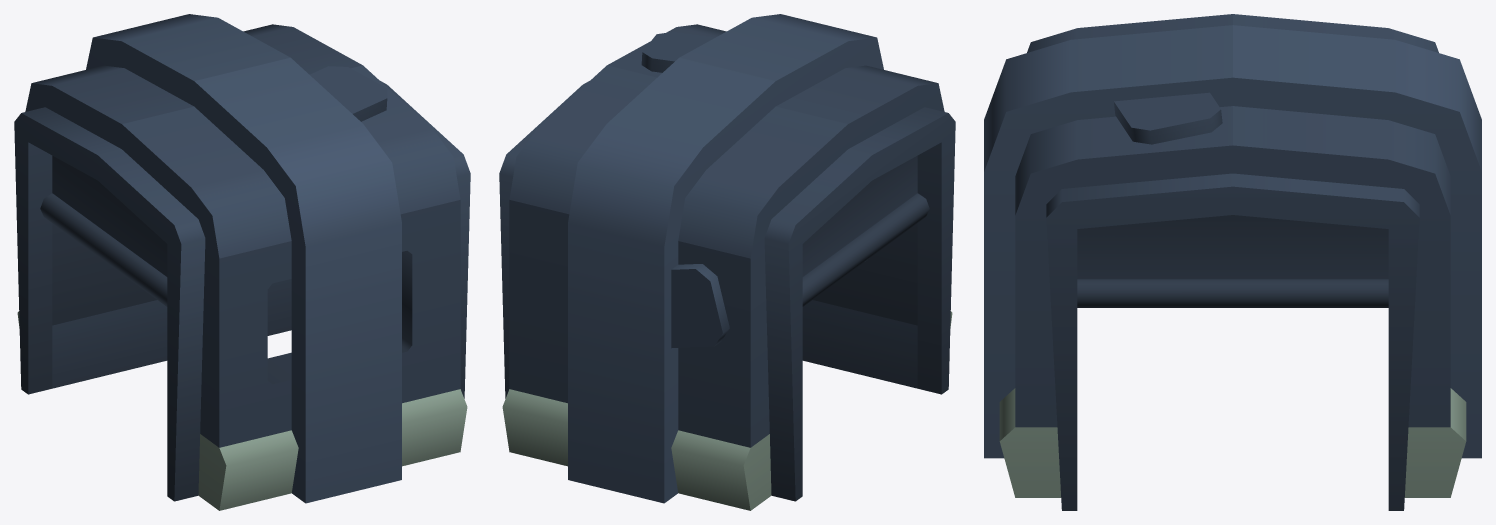
Rendered from factory-kit__machine-fortified.glb.
3 views of the same model, side by side, from view 1: azimuth 30°, elevation 25°; view 2: azimuth 150°, elevation 25°; view 3: azimuth 270°, elevation 25° (orthographic). The views are drawn at different scales.
Visible parts, largest first — view 1: machine-fortified; view 2: machine-fortified; view 3: machine-fortified.
Boxes of the visible parts, x1=… form: machine-fortified: x1=14, y1=14, x2=470, y2=510; machine-fortified: x1=499, y1=14, x2=955, y2=510; machine-fortified: x1=984, y1=14, x2=1481, y2=510.
Size of the model in its own units: 5.6 by 6.3 by 7.46.
Materials: 1 (1 with a texture image).
